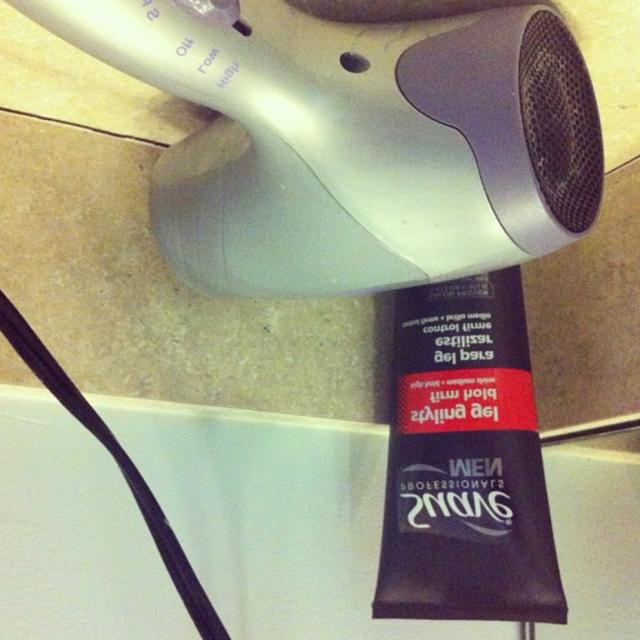dryer: (90, 0, 621, 327)
